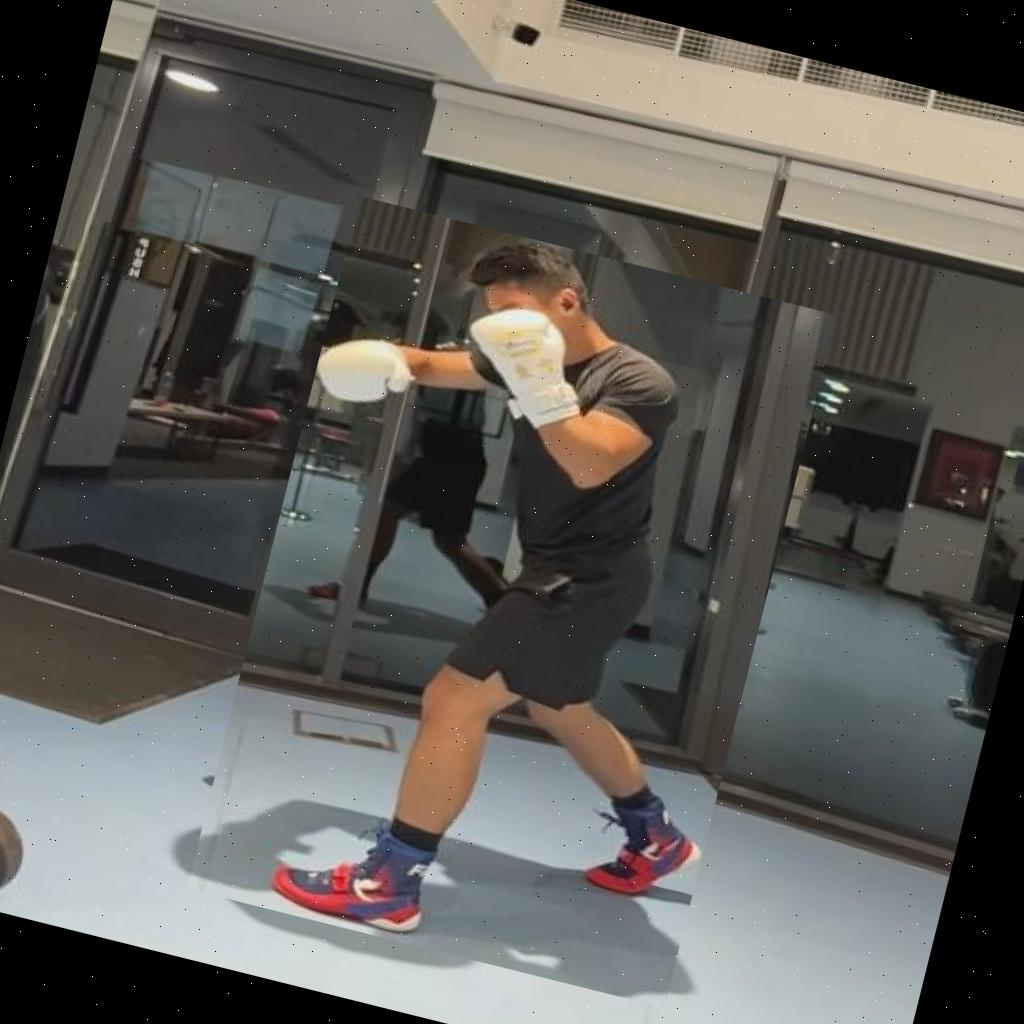hook: (186, 196, 836, 1007)
